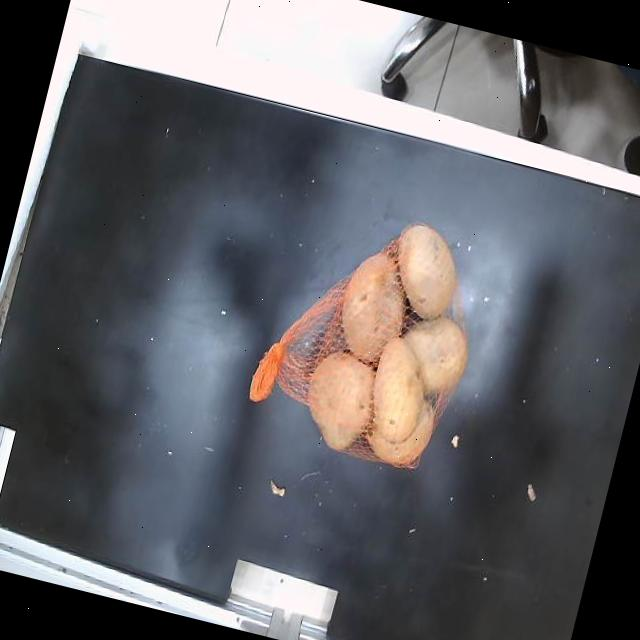potato: (342, 253, 404, 362), (308, 352, 375, 450), (398, 224, 457, 319), (372, 337, 424, 442), (404, 316, 468, 393), (367, 400, 434, 466)
